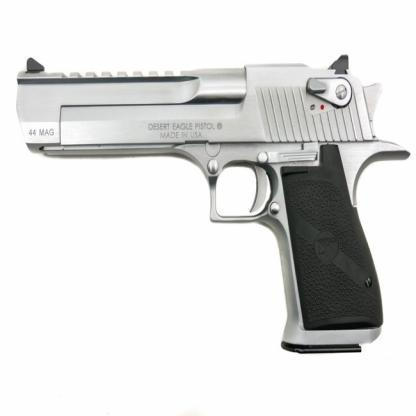Pistol: (16, 54, 411, 353)
